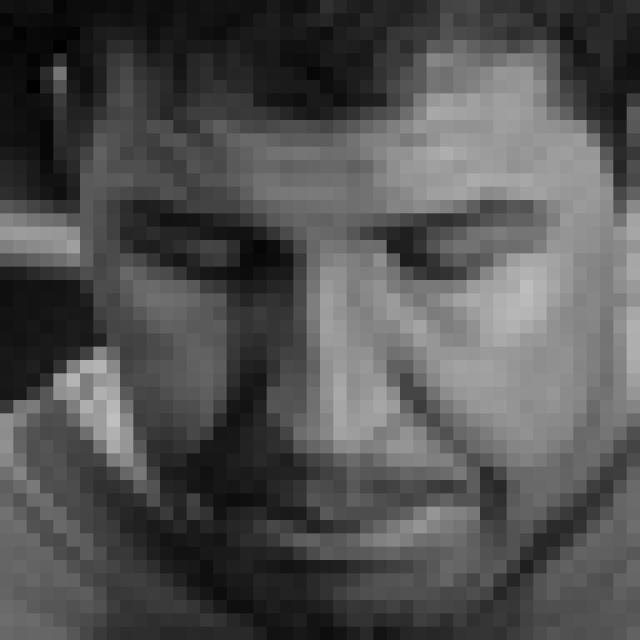sad: (127, 186, 559, 581)
